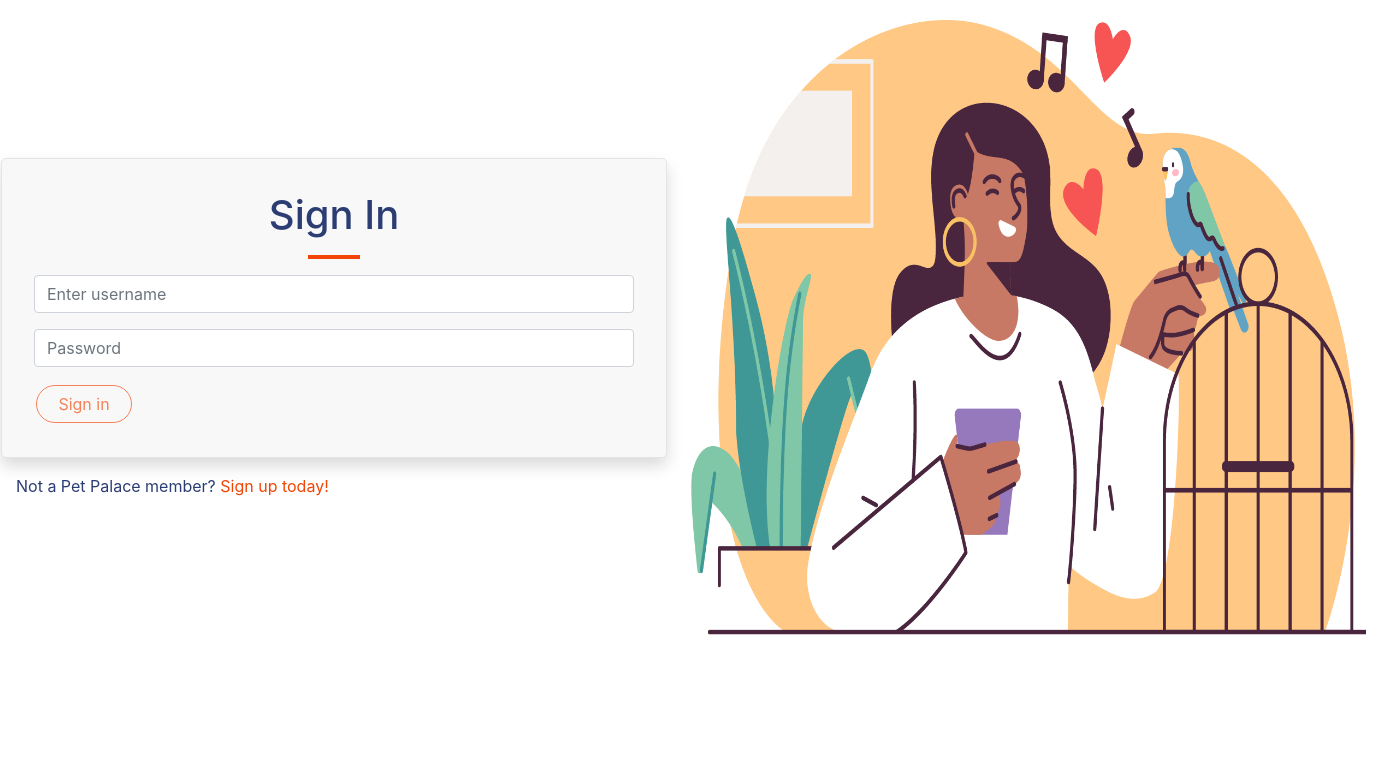
Scenario: button is not disabled if signin inputs are filled
Step 1. Type "Maja" into the field with placeholder "Enter username" → point(334, 294), box left=34, top=275, right=634, bottom=313
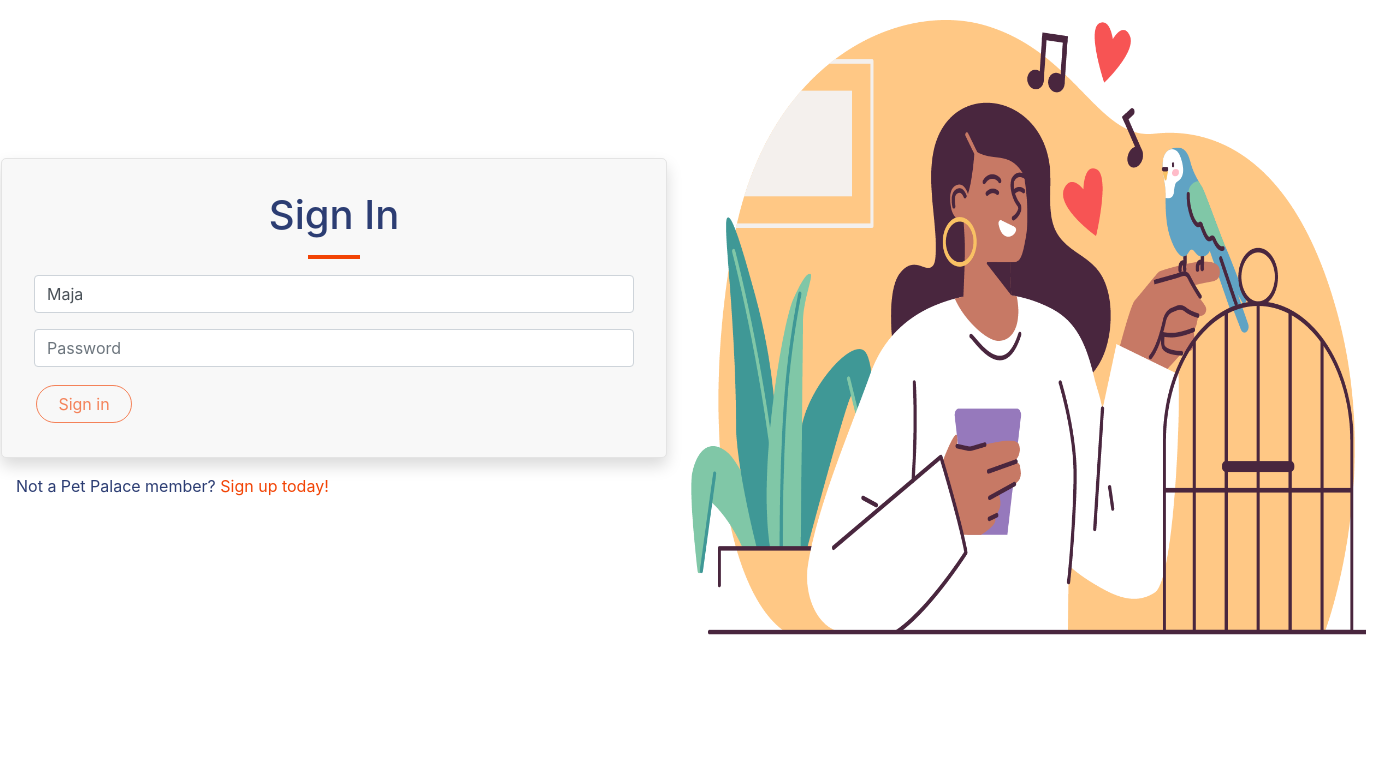
Step 2. Type "password" into the password field with placeholder "Password" → point(334, 348), box left=34, top=329, right=634, bottom=367
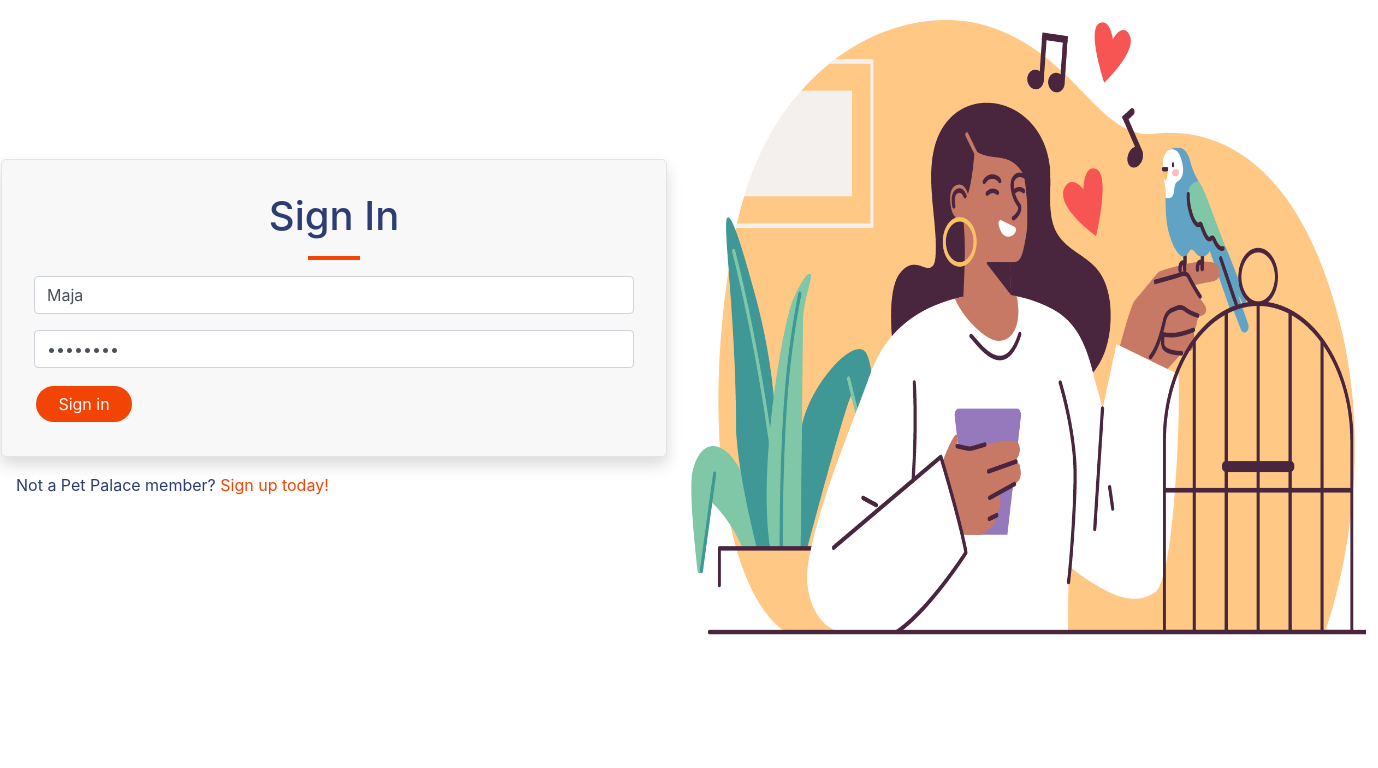
Check: the button "Sign in" is enabled, box left=36, top=386, right=132, bottom=422
